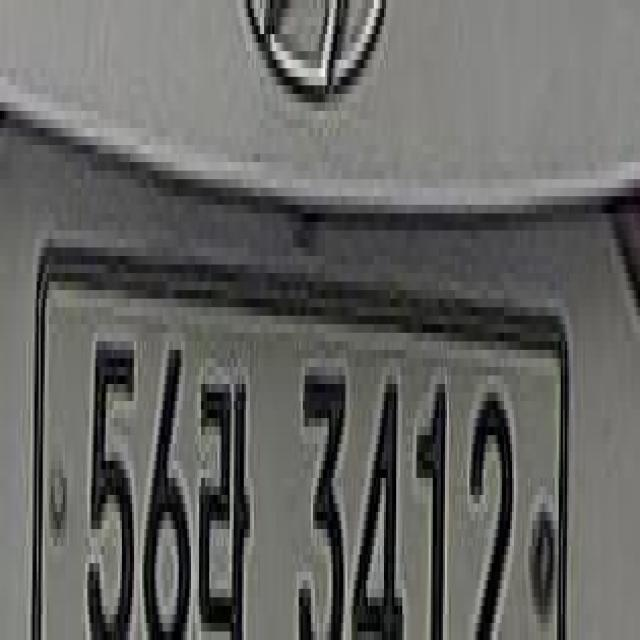illegal_plate: (32, 248, 576, 633)
